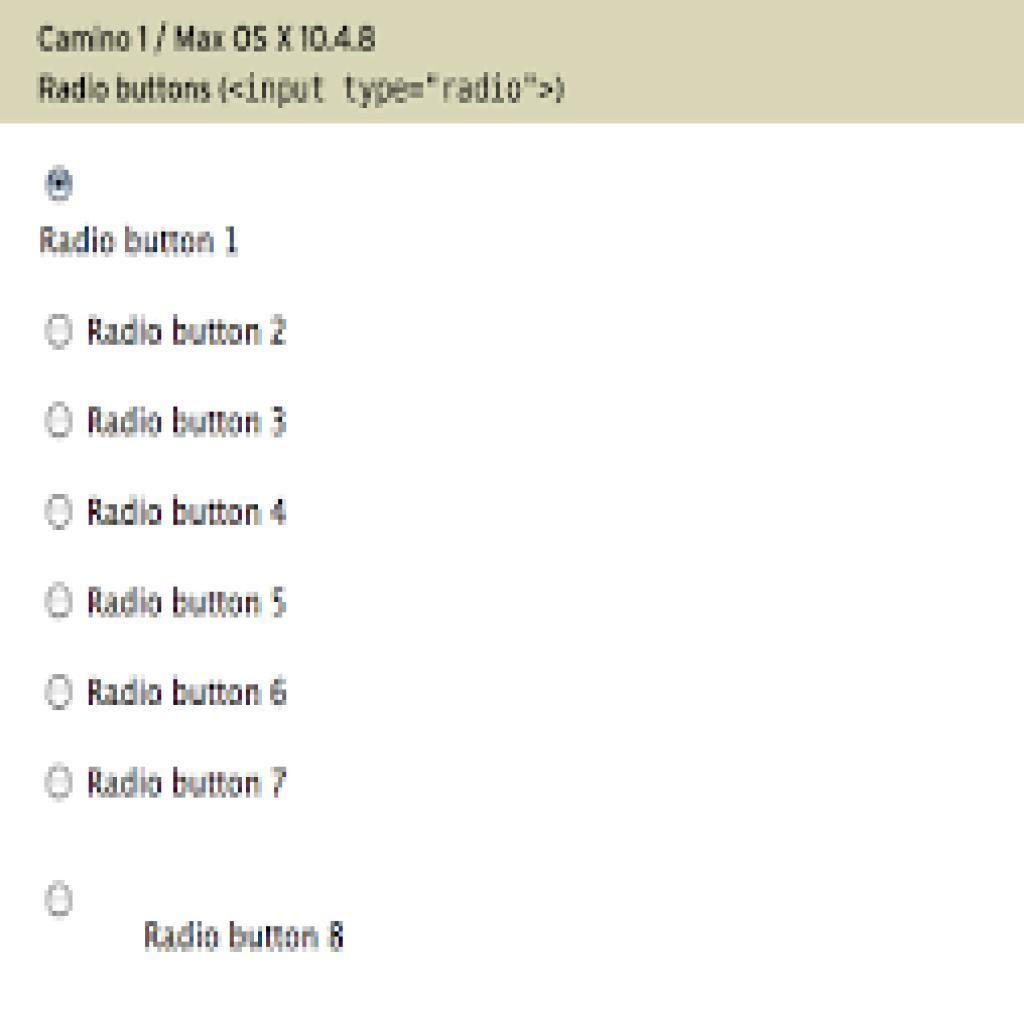radio: (40, 572, 82, 640), (45, 391, 79, 455), (42, 664, 81, 719), (42, 483, 81, 537), (42, 157, 77, 215), (42, 755, 79, 809), (42, 868, 77, 923), (42, 308, 79, 356)
